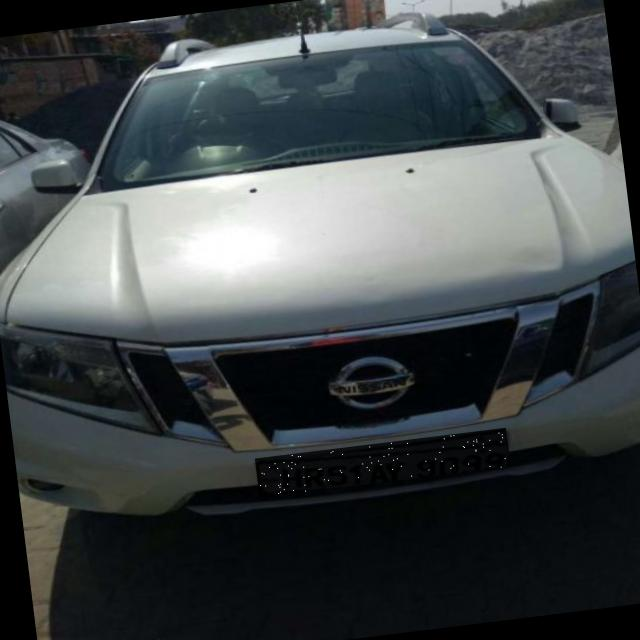Plate: (256, 428, 512, 498)
